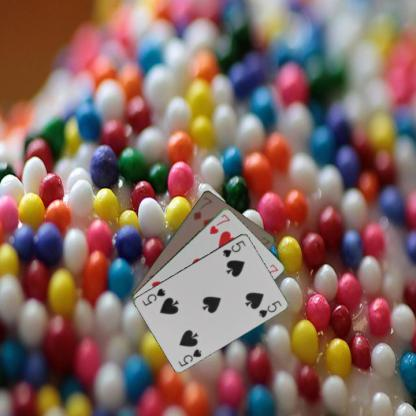5s: (176, 346, 202, 368), (220, 238, 247, 258)
7d: (191, 194, 213, 221)
7h: (207, 211, 231, 235)
